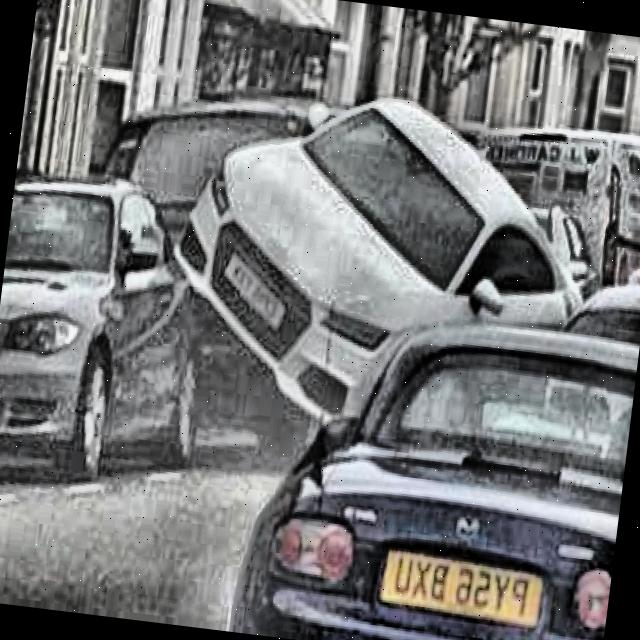license_plate: (385, 551, 542, 622), (224, 254, 293, 326)
